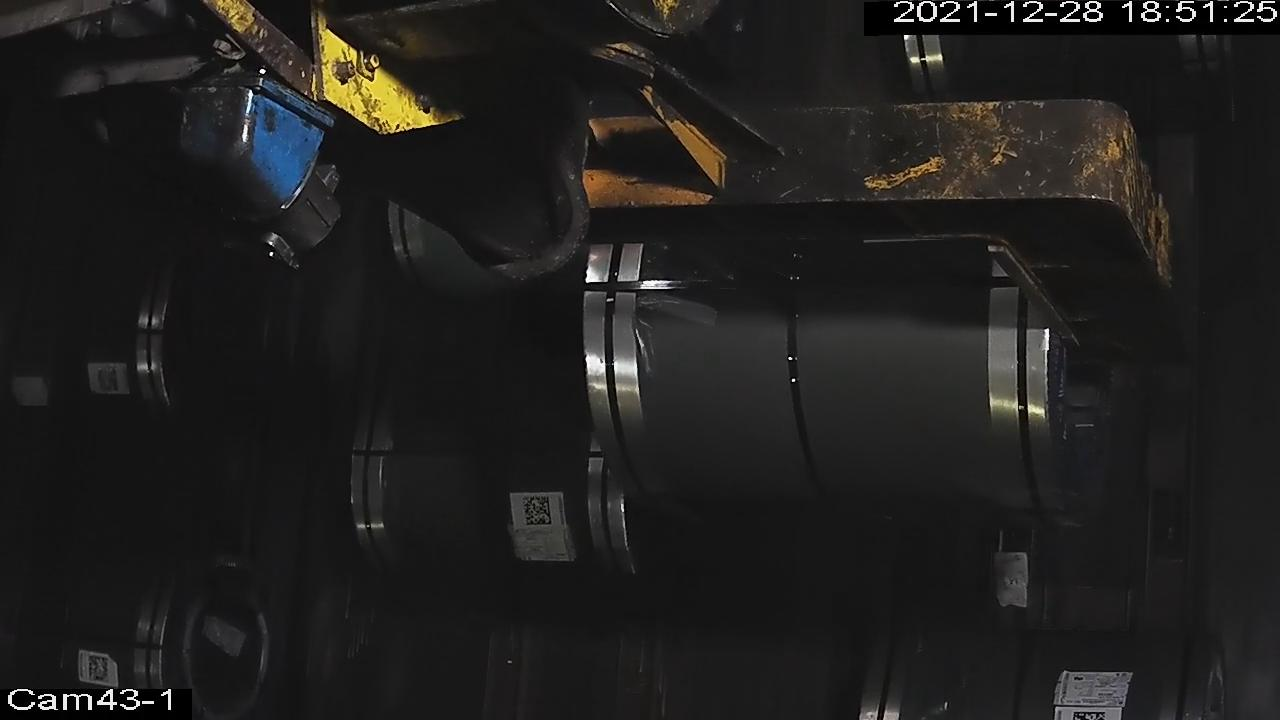data matrix: (520, 495, 556, 529), (94, 365, 125, 396), (85, 653, 114, 686)
